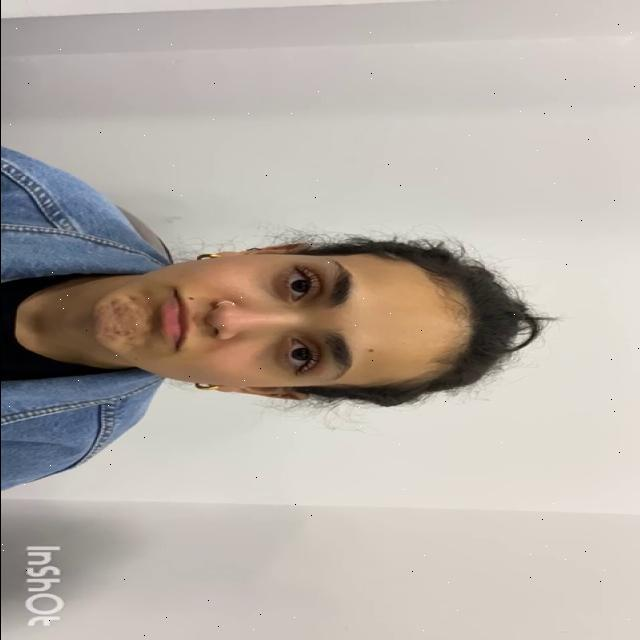natural: (89, 234, 448, 406)
